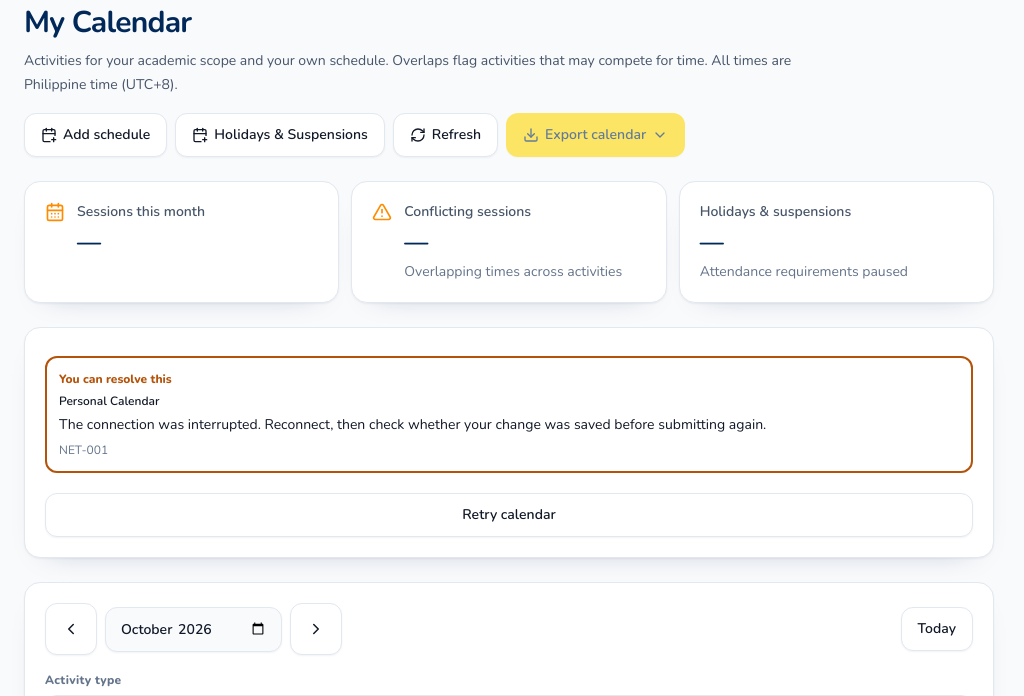
Calendar screens › recovers a failed calendar read through Retry
Expected: the message is shown, [45,356,973,473]
Click the button "Retry calendar": x=509, y=515 [45,493,973,537]
(page scrolled)
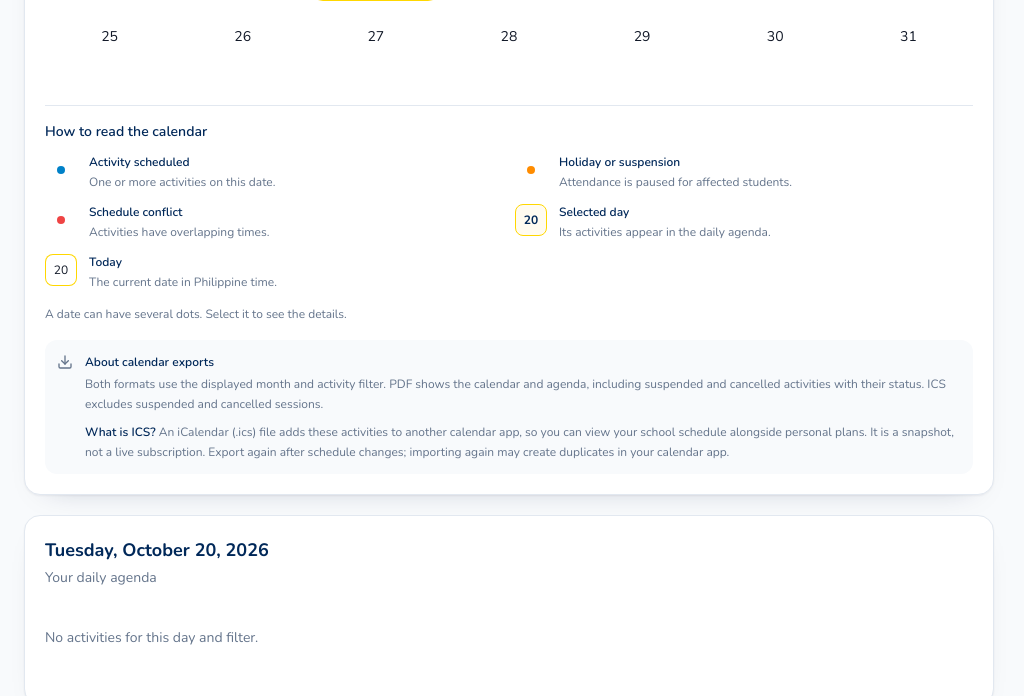
Expected: the text "No activities for this day and filter." is shown, [45,628,258,647]
